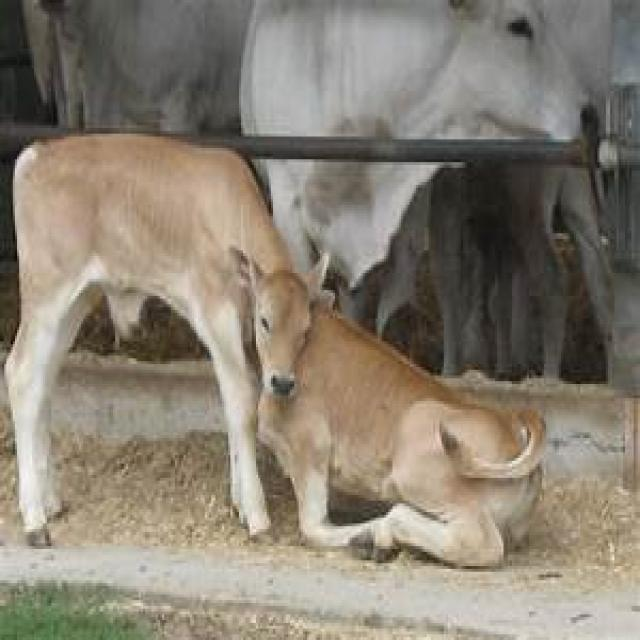cow: (2, 134, 333, 546), (241, 0, 614, 290), (256, 270, 546, 569)
